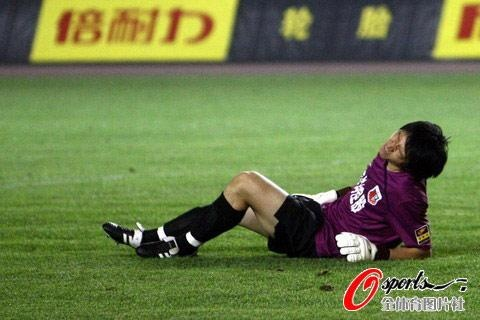falling: (96, 111, 450, 268)
